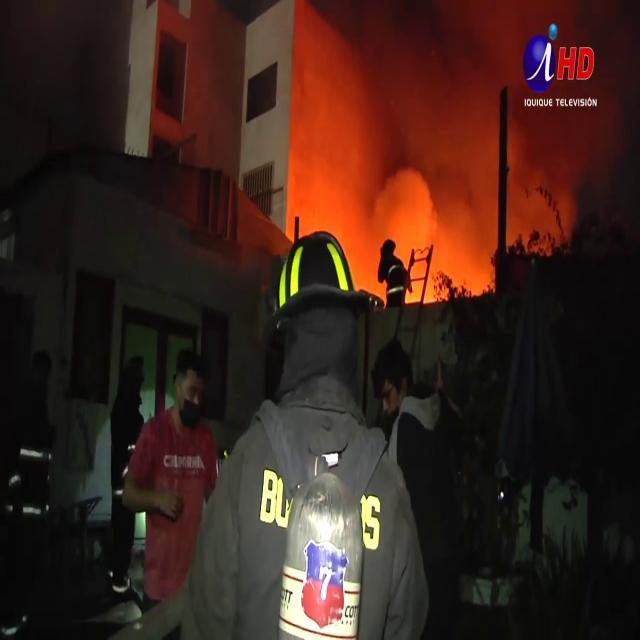Smoke: (306, 1, 620, 269)
